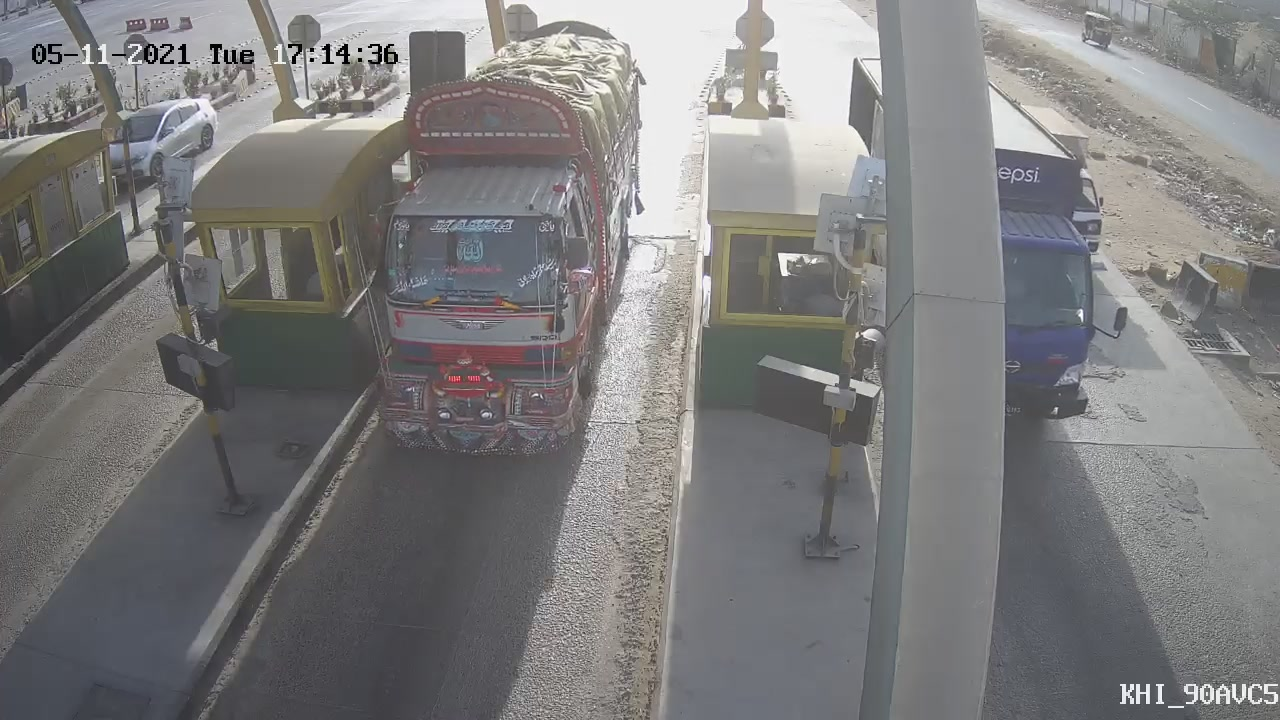F5: (318, 7, 673, 483)
